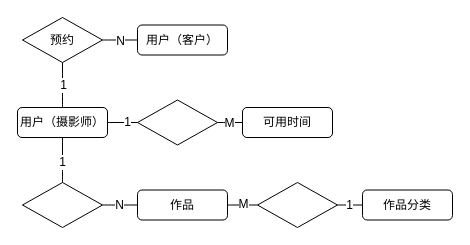
This 470x245 diagram has some shape labels left out. Here are the shapes that lost their labels. From the top down, the centre of each, then its label:
At (x=177, y=122): "提供".
At (x=62, y=205): "发布".
At (x=297, y=205): "归类".
